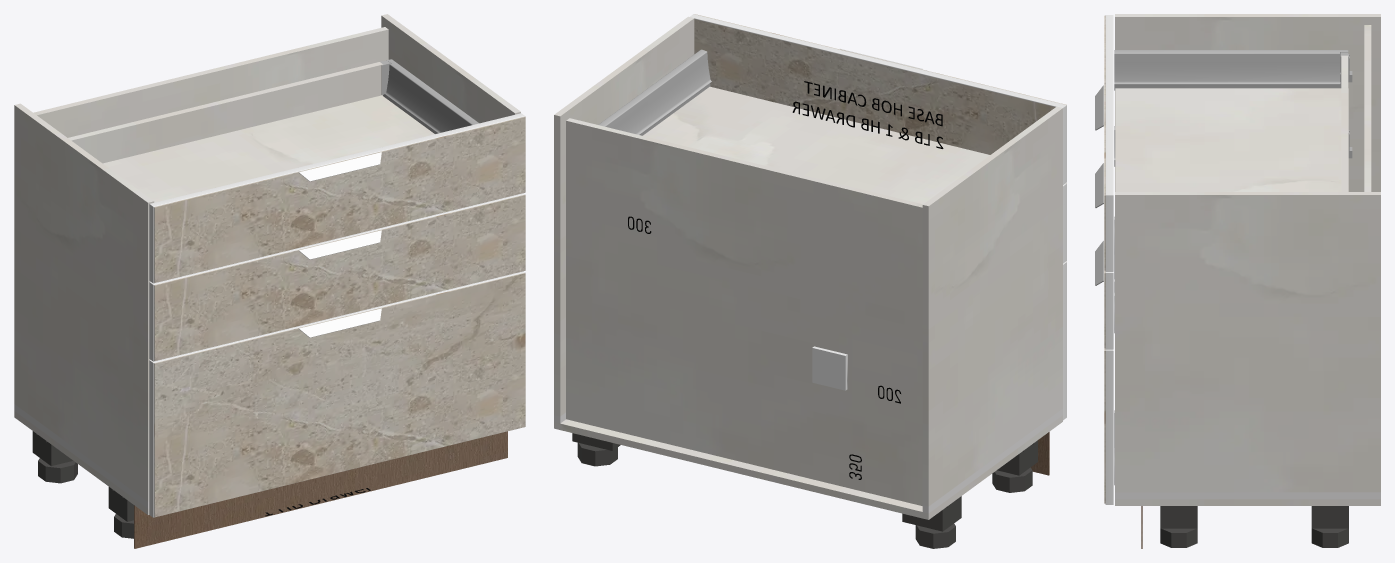
File: BHC2EL1EH_EH (H720xW900xD560).glb
3 views of the same model, side by side, from view 1: azimuth 30°, elevation 25°; view 2: azimuth 150°, elevation 25°; view 3: azimuth 270°, elevation 25° (orthographic).
Size of what is drawn, in the model's own units: 0.9 by 0.82 by 0.6.
Materials: 11 (3 with a texture image).
